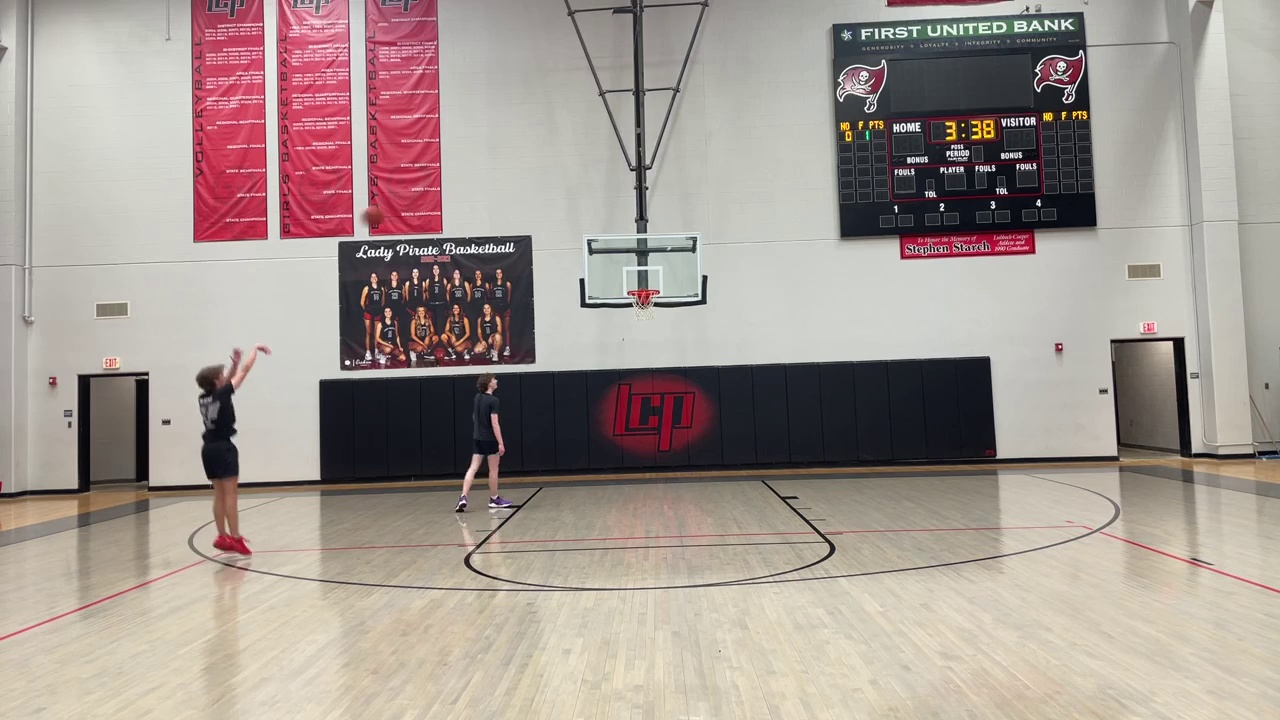shooting player: (194, 343, 268, 558)
